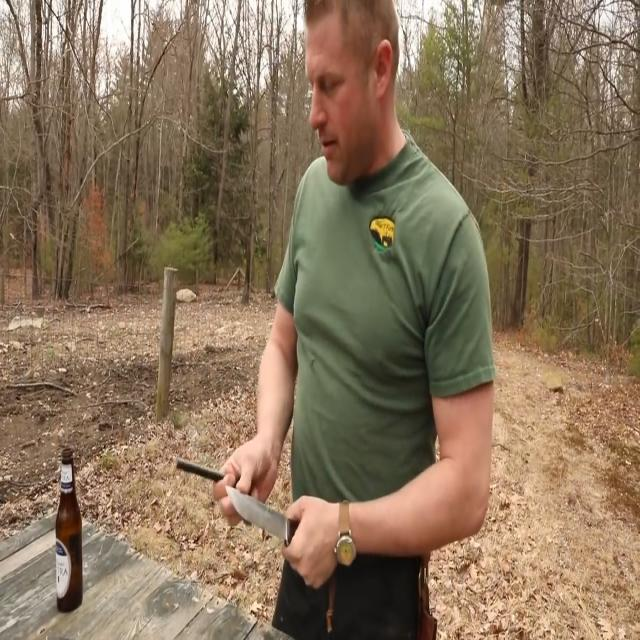knife: (226, 480, 293, 543)
